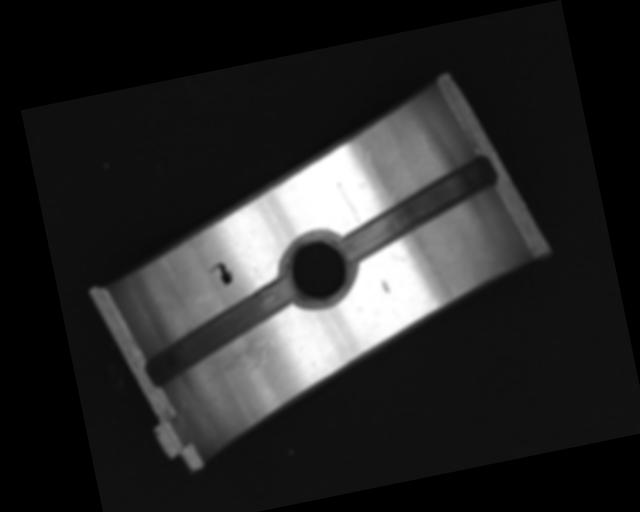blot: (207, 259, 235, 289)
bruise: (379, 277, 391, 295)
gap: (133, 276, 307, 387), (329, 156, 506, 264)
hole: (275, 225, 361, 311)
nick: (337, 179, 361, 225)
scratch: (189, 316, 295, 383)
